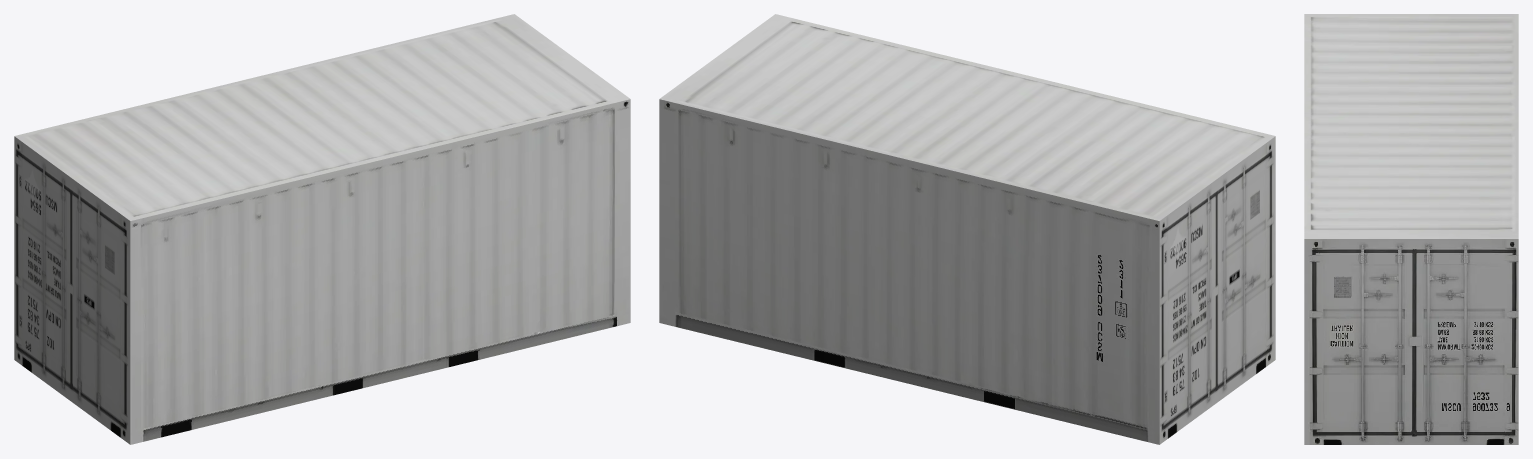
The model's file is 20ft_96_container.glb.
3 renders of one model, left to right at view 1: azimuth 30°, elevation 25°; view 2: azimuth 150°, elevation 25°; view 3: azimuth 270°, elevation 25°, orthographic. The views are drawn at different scales.
Parts seen in each view (by area): view 1: containerobjcleanermaterialmergergles; view 2: containerobjcleanermaterialmergergles; view 3: containerobjcleanermaterialmergergles.
Boxes of the visible parts, x1=… form: containerobjcleanermaterialmergergles: x1=14, y1=14, x2=630, y2=444; containerobjcleanermaterialmergergles: x1=659, y1=14, x2=1275, y2=444; containerobjcleanermaterialmergergles: x1=1304, y1=14, x2=1518, y2=444.
Bounding box in the file's own units: 6.06 × 2.59 × 2.44.
1 material, 1 textured.
